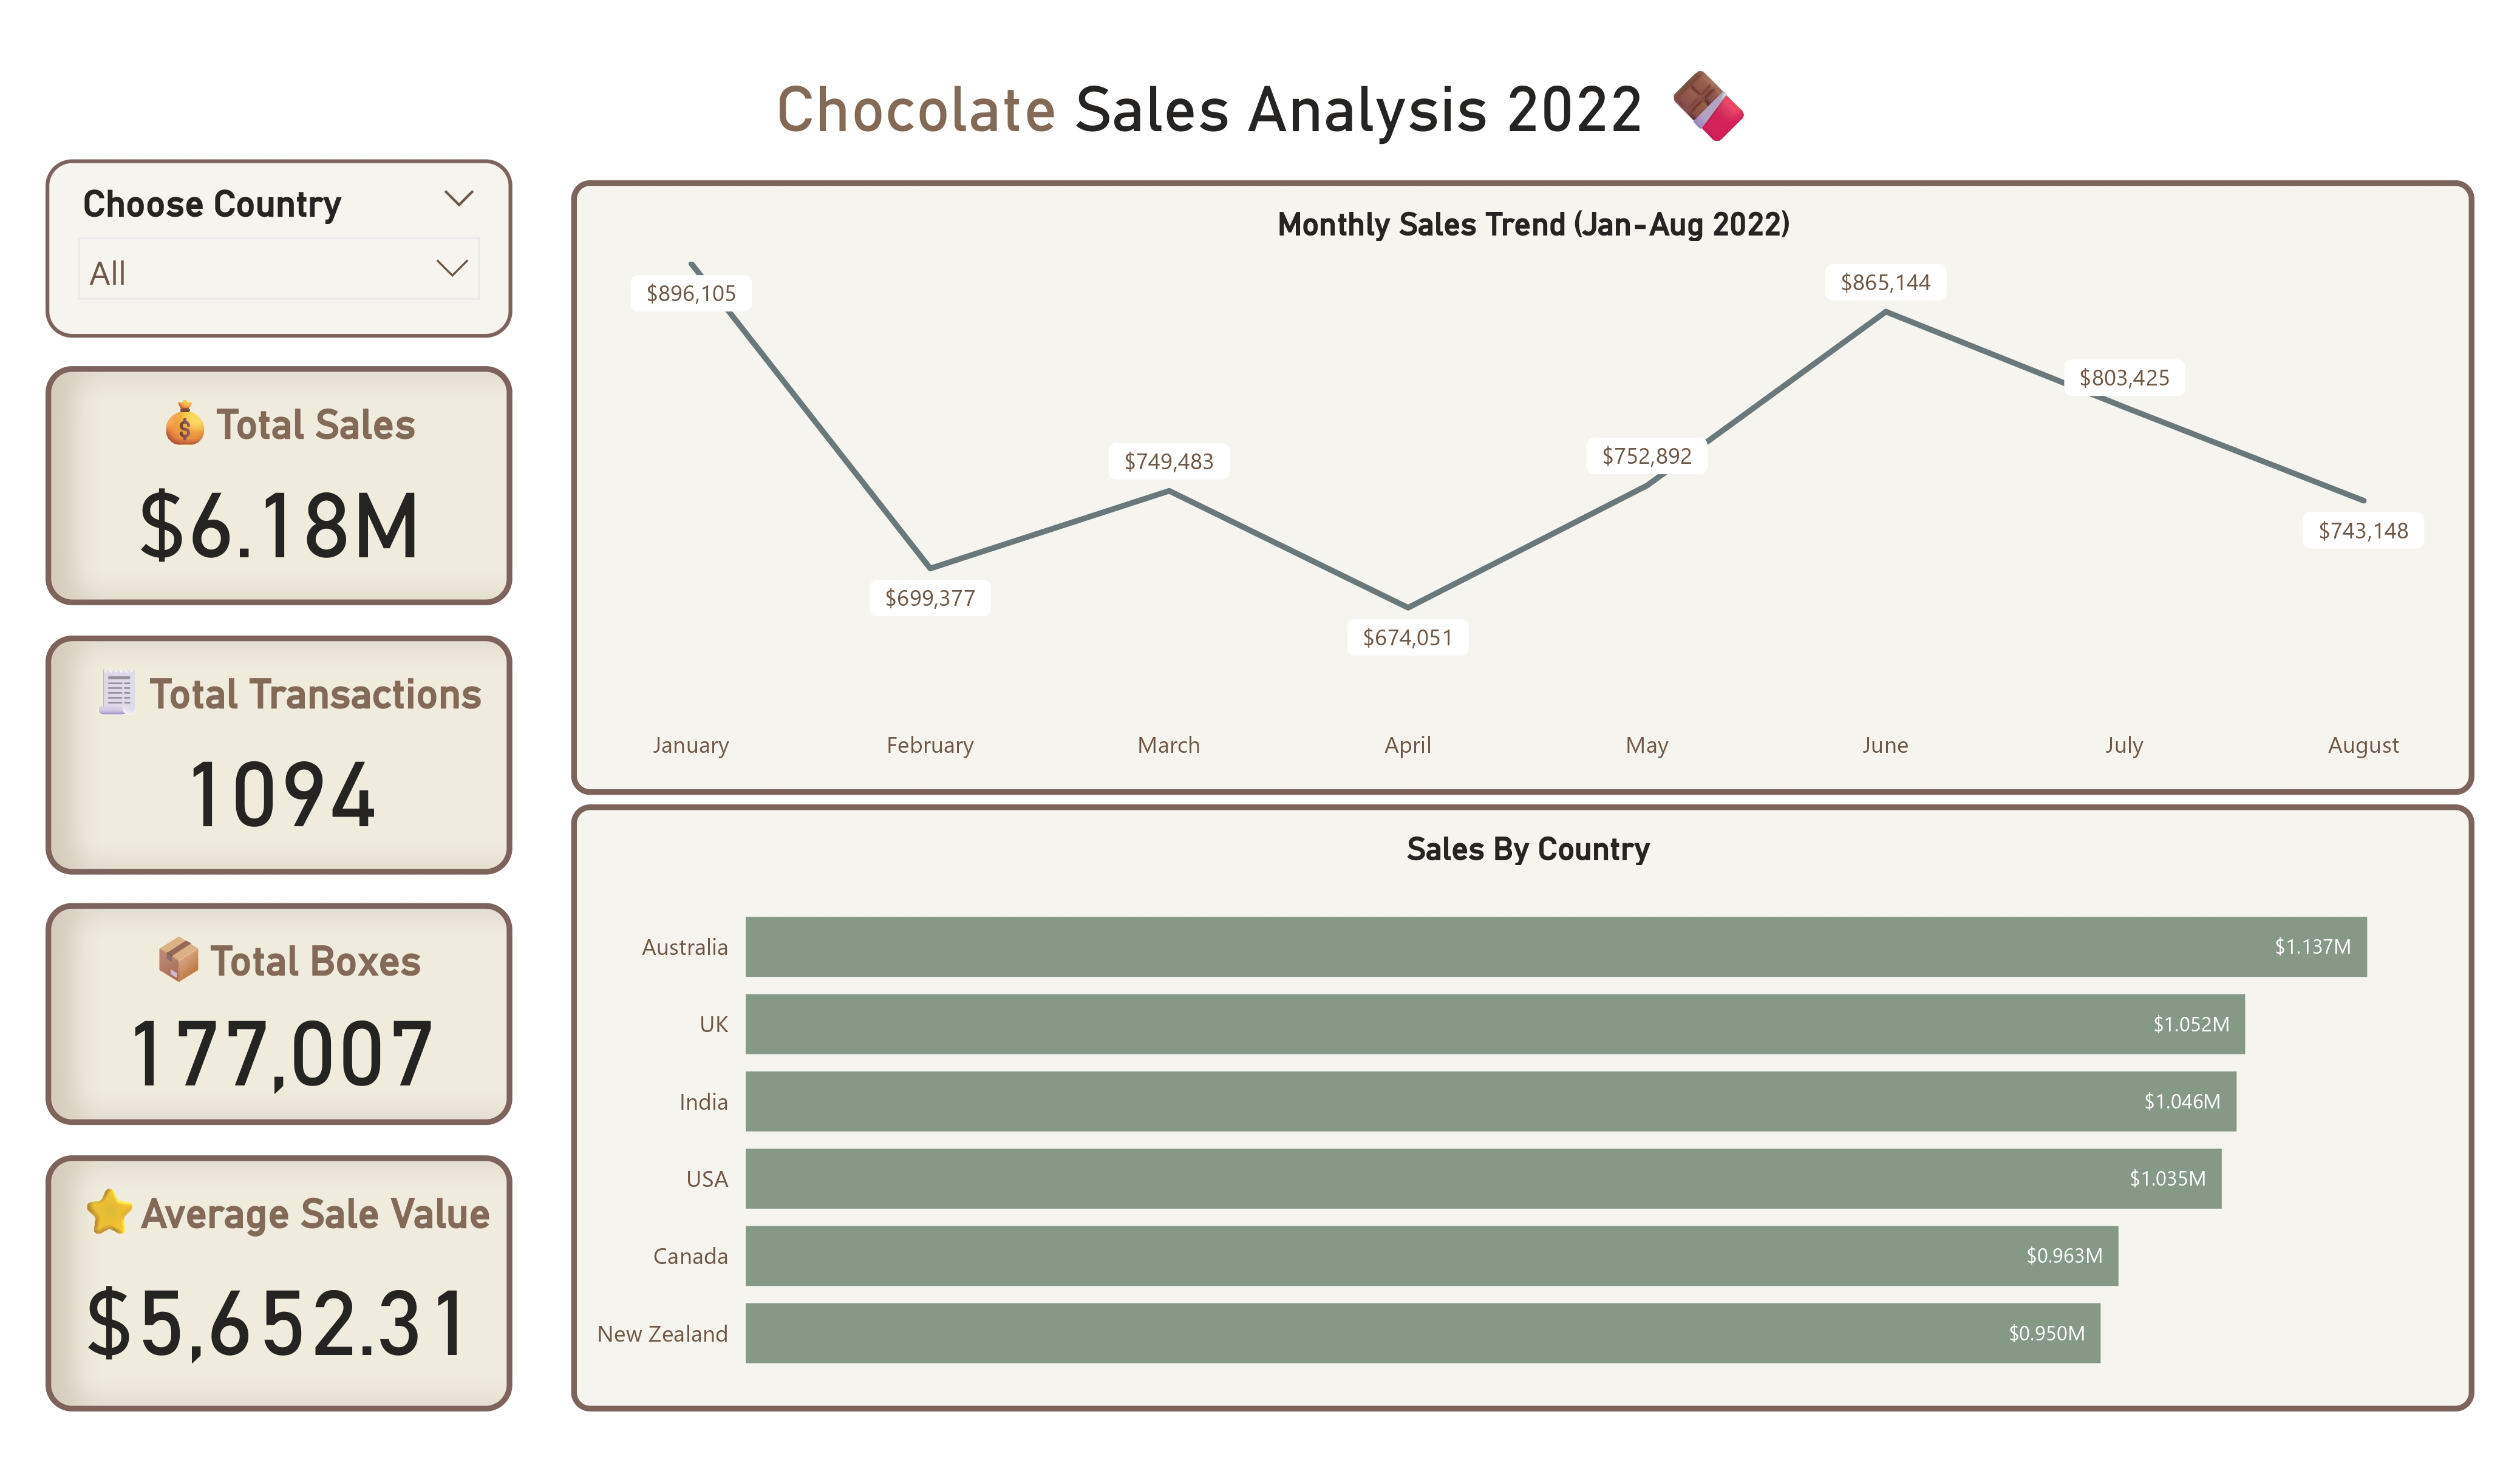

What the dashboard file says about the page in this screenshot:
{"tool":"powerbi","page":{"name":"Overview","canvas":[1280,720],"ordinal":0},"visuals":[{"type":"card","title":"💰Total Sales ","fields":{"Values":["Sum(public chocolate_sales_data.amount)"]},"box":[0,169.2,246.2,126.2],"z":0},{"type":"card","title":"🧾Total Transactions ","fields":{"Values":["CountNonNull(public chocolate_sales_data.country)"]},"box":[0,310.8,246.2,126.2],"z":1000},{"type":"card","title":"📦Total Boxes ","fields":{"Values":["Sum(public chocolate_sales_data.boxes_shipped)"]},"box":[0,452.3,246.2,116.9],"z":2000},{"type":"card","title":"⭐Average Sale Value ","fields":{"Values":["Avg(public chocolate_sales_data.amount)"]},"box":[0,584.6,246.2,135.4],"z":3000},{"type":"barChart","title":"Sales By Country","fields":{"Category":["public chocolate_sales_data.country"],"Y":["Sum(public chocolate_sales_data.amount)"]},"box":[276.9,400,1003.1,320],"z":4000},{"type":"lineChart","title":"Monthly Sales Trend (Jan-Aug 2022)","fields":{"Category":["public chocolate_sales_data.date.Variation.Date Hierarchy.Month"],"Y":["Sum(public chocolate_sales_data.amount)"]},"box":[276.9,70.8,1003.1,324.6],"z":5000},{"type":"textbox","box":[380,0,544.6,60],"z":6000},{"type":"slicer","fields":{"Values":["public chocolate_sales_data.country"]},"box":[0,60,246.2,93.8],"z":7000}]}

Visuals, with their boxes on the page's 1280x720 design canvas (x1, y1, x2, y2). These are canvas units, not pixel positions in the 2520x1457 screenshot, which may show the page scaled, cropped or inside an application window:
"💰Total Sales " card: l=0, t=169, r=246, b=295
"🧾Total Transactions " card: l=0, t=311, r=246, b=437
"📦Total Boxes " card: l=0, t=452, r=246, b=569
"⭐Average Sale Value " card: l=0, t=585, r=246, b=720
"Sales By Country" barChart: l=277, t=400, r=1280, b=720
"Monthly Sales Trend (Jan-Aug 2022)" lineChart: l=277, t=71, r=1280, b=395
textbox: l=380, t=0, r=925, b=60
slicer - public chocolate_sales_data.country: l=0, t=60, r=246, b=154
